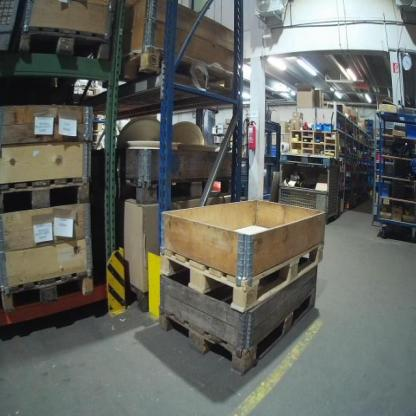pallet: (159, 283, 318, 374), (161, 235, 327, 312), (115, 47, 240, 95), (1, 264, 95, 317), (1, 175, 92, 215), (16, 30, 112, 64), (121, 178, 231, 198)
small_load_carrier: (405, 120, 415, 138)
stillage: (276, 158, 343, 223), (0, 1, 26, 57)
